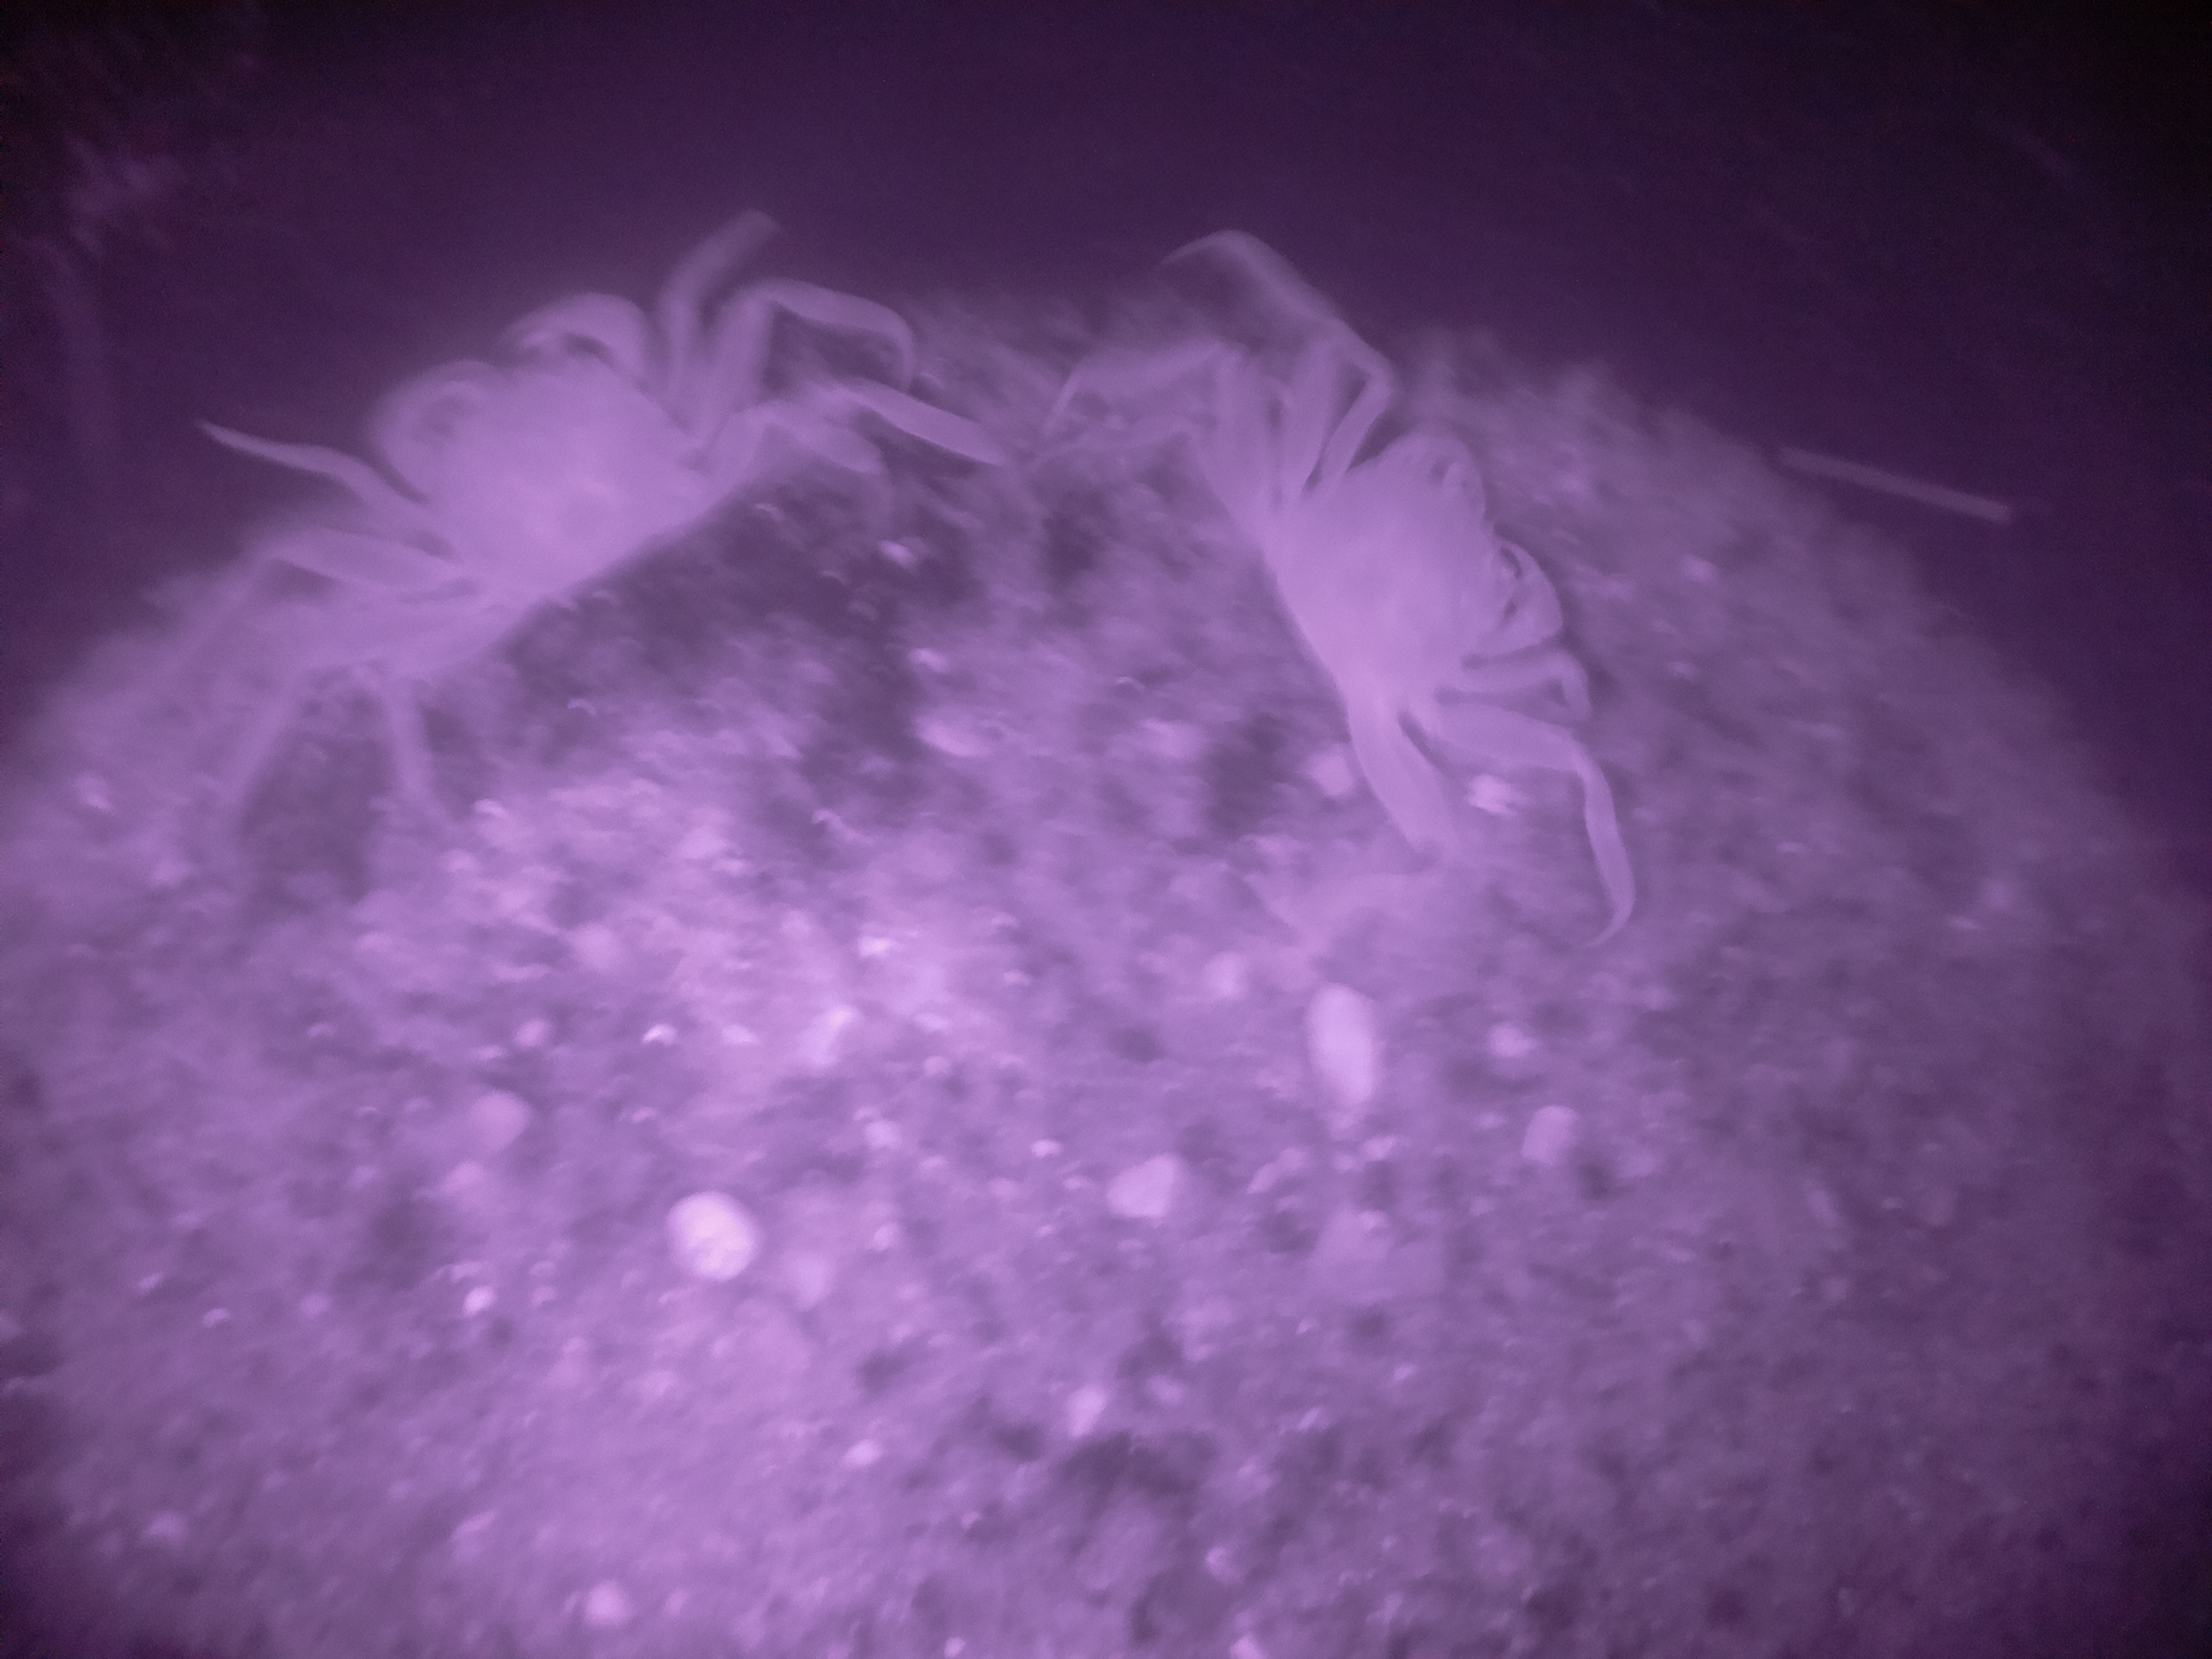Crab: (218, 192, 796, 734), (1170, 308, 1635, 829)
